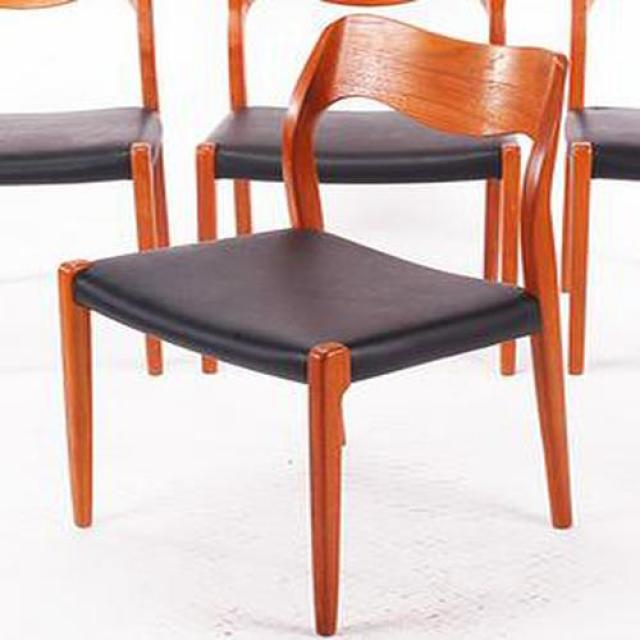chair: (55, 15, 573, 639)
